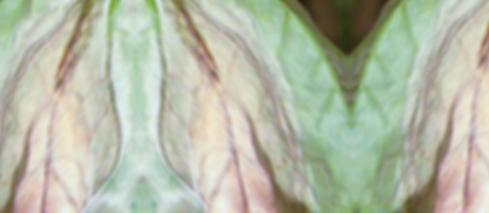Tomato leaf late blight: (126, 0, 364, 213)
